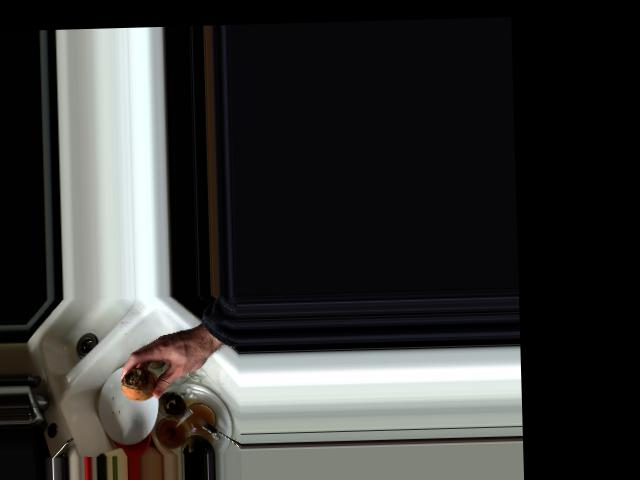sweet_potato: (119, 365, 165, 402)
